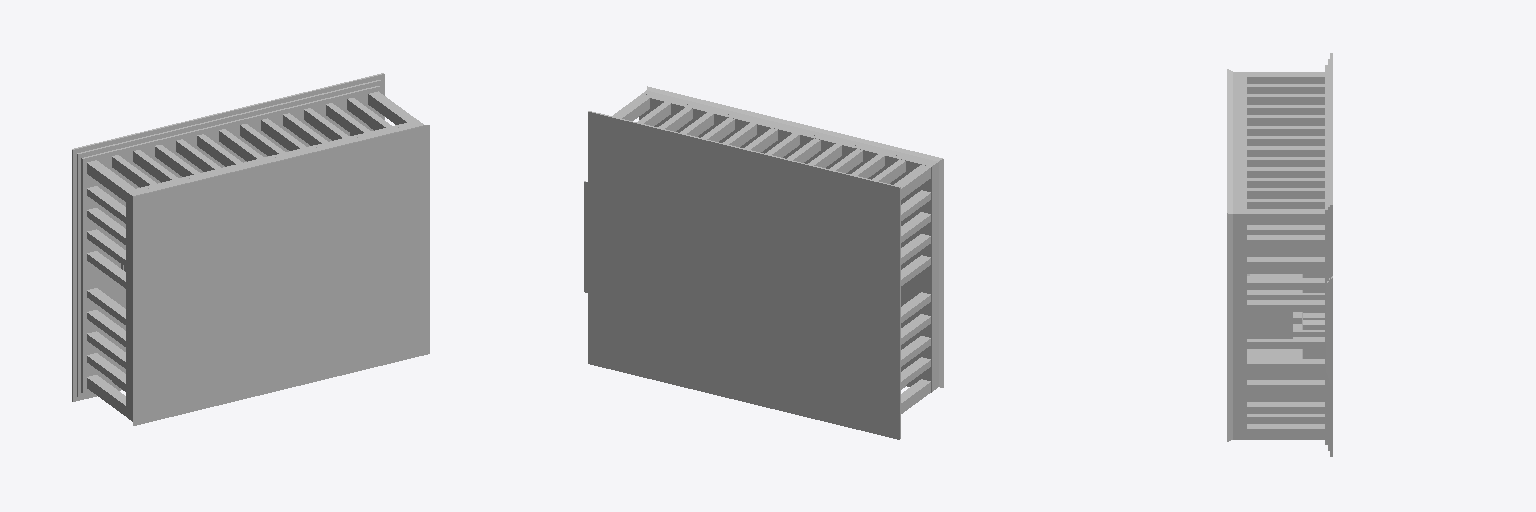
File: anitkabirson.obj
3 renders of one model, left to right at view 1: azimuth 30°, elevation 25°; view 2: azimuth 150°, elevation 25°; view 3: azimuth 270°, elevation 25°, orthographic.
Parts seen in each view (by area): view 1: obj34, obj25, obj23, obj24, obj103, obj102, obj80, obj79, obj2, obj15, obj18, obj12 (+17 smaller); view 2: obj23, obj102, obj34, obj103, obj26, obj80, obj79; view 3: obj103, obj34, obj102, obj72, obj1, obj2, obj125, obj78, obj73, obj25, obj3, obj4 (+24 smaller).
Boxes of the visible parts, <box> form: obj34: <box>133,125,429,425</box>; obj25: <box>81,86,379,392</box>; obj23: <box>72,73,384,401</box>; obj24: <box>77,80,381,397</box>; obj103: <box>129,122,423,421</box>; obj102: <box>126,120,419,418</box>; obj80: <box>87,160,134,201</box>; obj79: <box>87,375,125,415</box>; obj2: <box>368,91,416,124</box>; obj15: <box>197,134,242,166</box>; obj18: <box>261,118,305,150</box>; obj12: <box>133,150,177,182</box>; obj23: <box>588,111,900,439</box>; obj102: <box>639,94,933,392</box>; obj34: <box>647,86,943,387</box>; obj103: <box>642,90,938,389</box>; obj26: <box>584,181,592,293</box>; obj80: <box>894,165,930,199</box>; obj79: <box>901,379,930,413</box>; obj103: <box>1233,72,1240,439</box>; obj34: <box>1227,69,1232,441</box>; obj102: <box>1241,72,1246,439</box>; obj72: <box>1247,226,1324,273</box>; obj1: <box>1247,424,1324,439</box>; obj2: <box>1247,209,1324,224</box>; obj125: <box>1247,312,1292,338</box>; obj78: <box>1260,370,1316,400</box>; obj73: <box>1247,349,1324,401</box>; obj25: <box>1325,65,1327,444</box>; obj3: <box>1247,402,1324,413</box>; obj4: <box>1247,380,1324,391</box>.
Bounding box in the file's own units: 66.04 × 50.38 × 19.09.